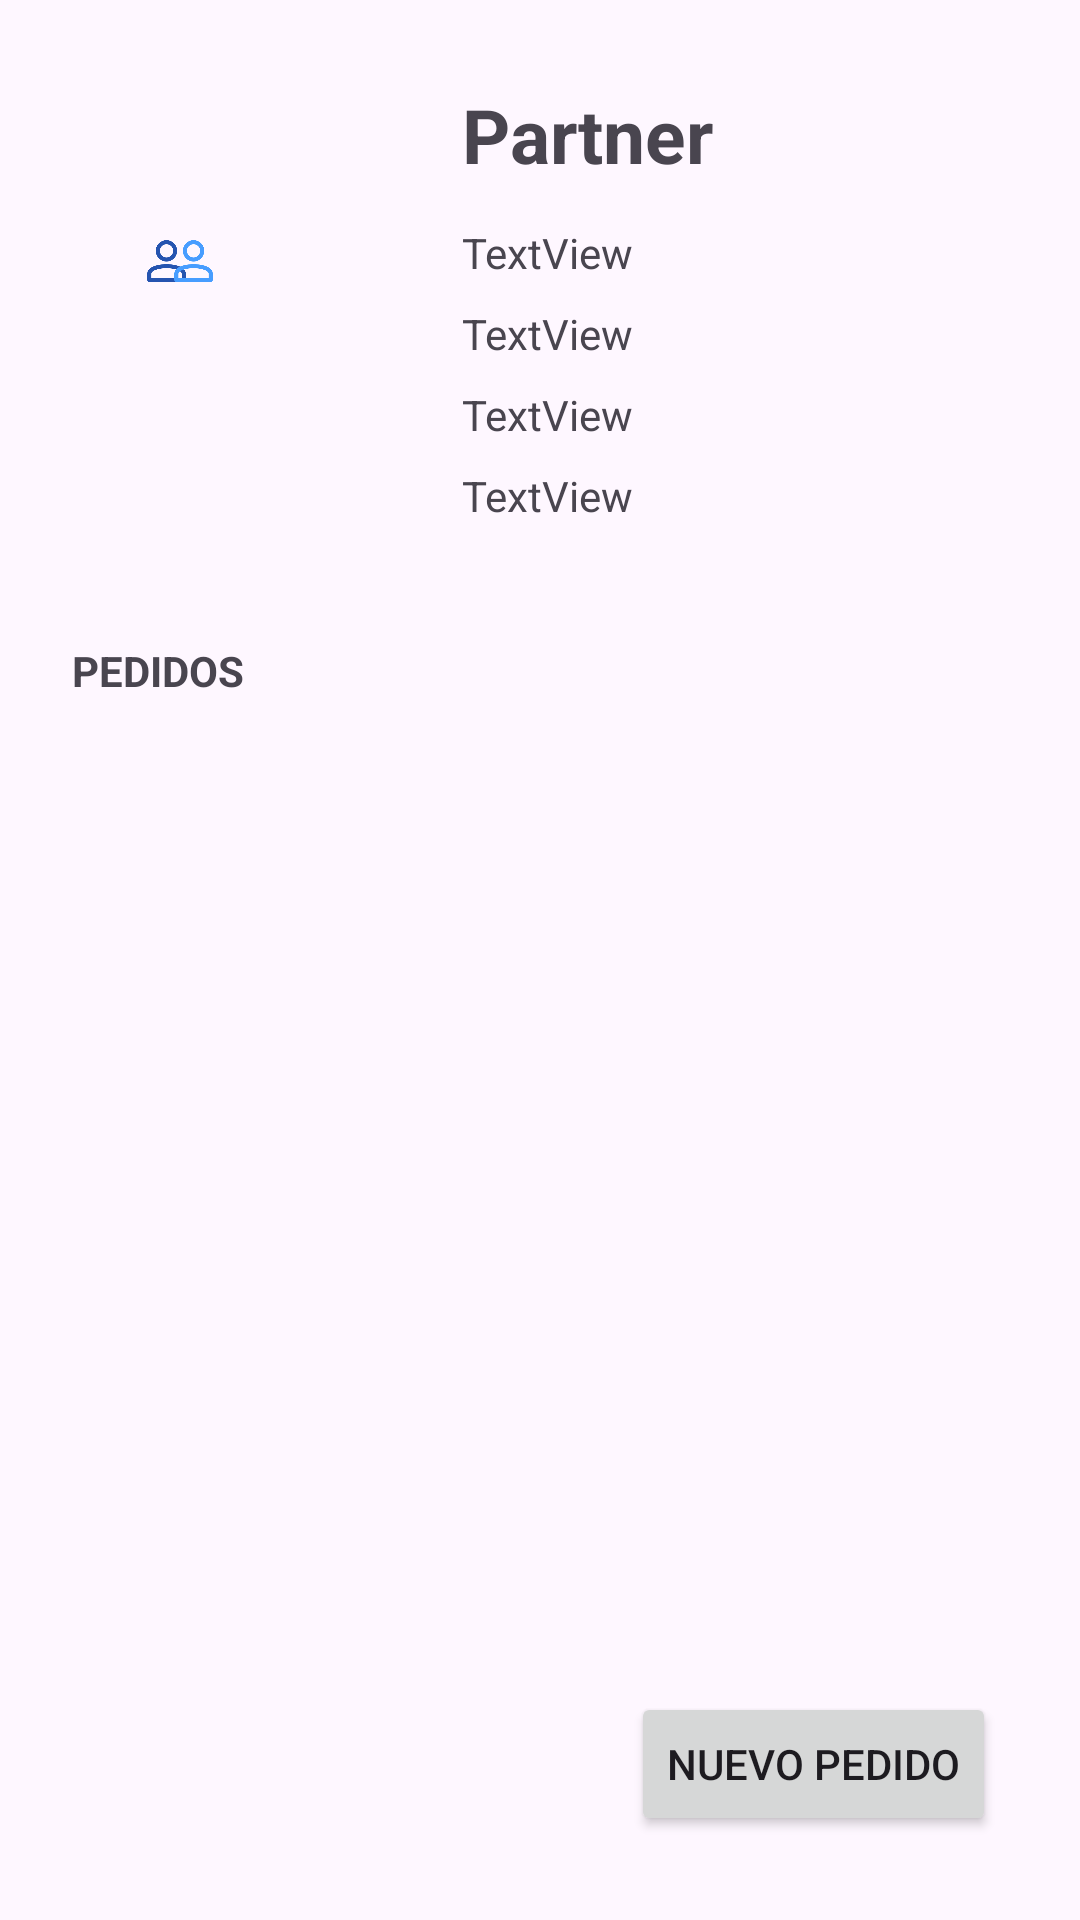

Point at icon controls on the screen. Image size 1080×1920, points as [x,y].
partnerimage: [180,261]
